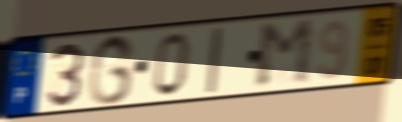0: (150, 29, 193, 99)
3: (43, 39, 87, 110)
9: (316, 17, 354, 82)
G: (85, 32, 137, 107)
I: (203, 25, 225, 96)
M: (255, 16, 316, 91)
